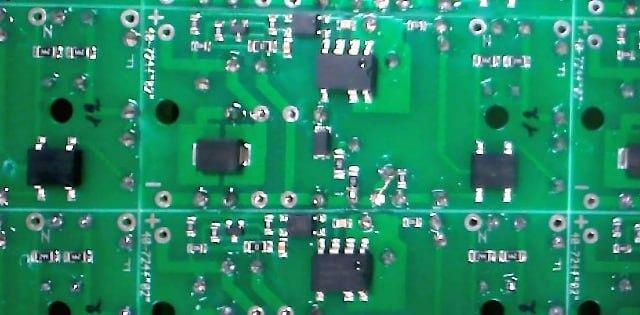chip-capacitor: (331, 217, 354, 229), (335, 19, 357, 31), (277, 237, 289, 259), (282, 37, 293, 59)
chip-resistor: (26, 248, 61, 265), (247, 38, 279, 55), (65, 45, 98, 61), (63, 249, 96, 265), (243, 239, 275, 255), (471, 52, 501, 69), (467, 248, 497, 264), (498, 248, 528, 264), (502, 54, 533, 69), (332, 147, 346, 180), (32, 45, 64, 59), (347, 164, 360, 194), (188, 12, 202, 36), (209, 220, 222, 245), (189, 39, 212, 53), (186, 241, 209, 255), (213, 19, 226, 43), (406, 18, 428, 32), (267, 13, 280, 36), (185, 215, 198, 238), (611, 216, 624, 239), (401, 216, 423, 229), (397, 167, 408, 190), (263, 213, 274, 236), (616, 49, 637, 61), (612, 242, 633, 254), (616, 23, 626, 44), (633, 223, 640, 244)
diode: (191, 137, 252, 175), (312, 124, 333, 162)
ic: (309, 235, 375, 304), (24, 135, 85, 204), (317, 38, 377, 106), (469, 138, 519, 204), (278, 212, 328, 238), (283, 12, 333, 37)
transistor: (224, 217, 246, 244), (229, 18, 249, 43)
